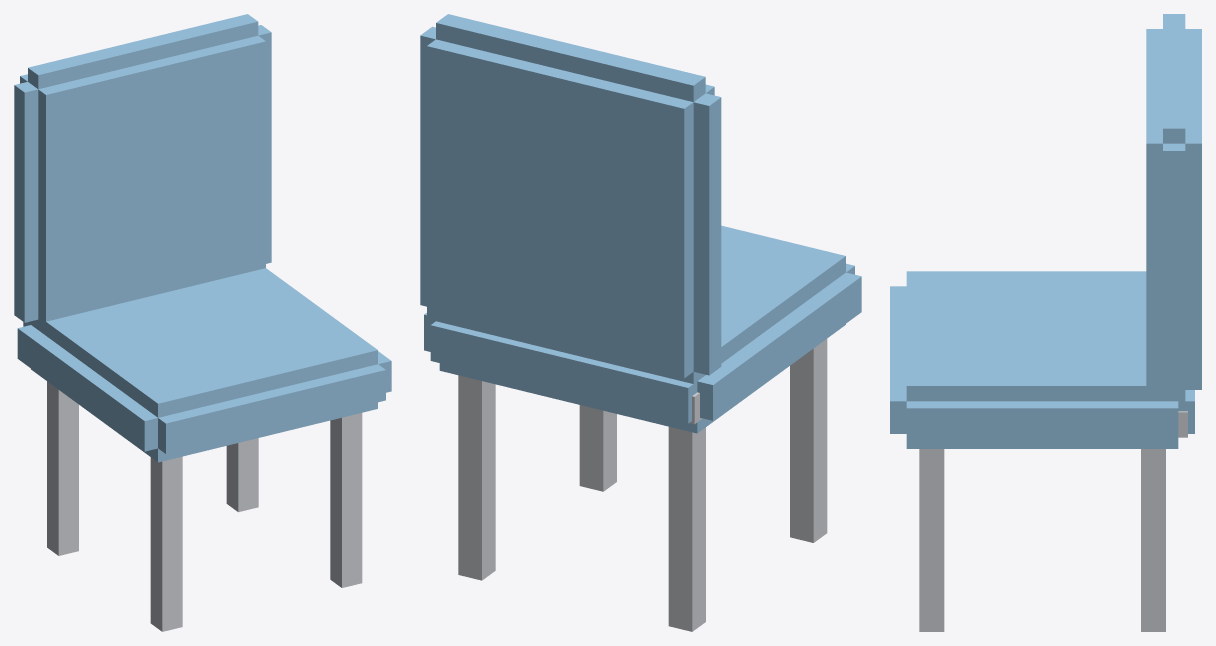
File: kursi_periksa.fbx
The picture shows the model from 3 angles, left to right: view 1: azimuth 30°, elevation 25°; view 2: azimuth 150°, elevation 25°; view 3: azimuth 270°, elevation 25°; orthographic projection. The views are drawn at different scales.
Visible parts, largest first — view 1: RsKpBlue, RsKpMetal; view 2: RsKpBlue, RsKpMetal; view 3: RsKpBlue, RsKpMetal.
Part boxes in pixels (bbox=[...]): RsKpBlue: bbox=[14, 14, 391, 462]; RsKpMetal: bbox=[47, 381, 362, 631]; RsKpBlue: bbox=[420, 14, 861, 433]; RsKpMetal: bbox=[458, 339, 827, 631]; RsKpBlue: bbox=[890, 14, 1201, 448]; RsKpMetal: bbox=[919, 411, 1187, 631].
Size of the model in its own units: 2.2 by 4.05 by 2.25.
